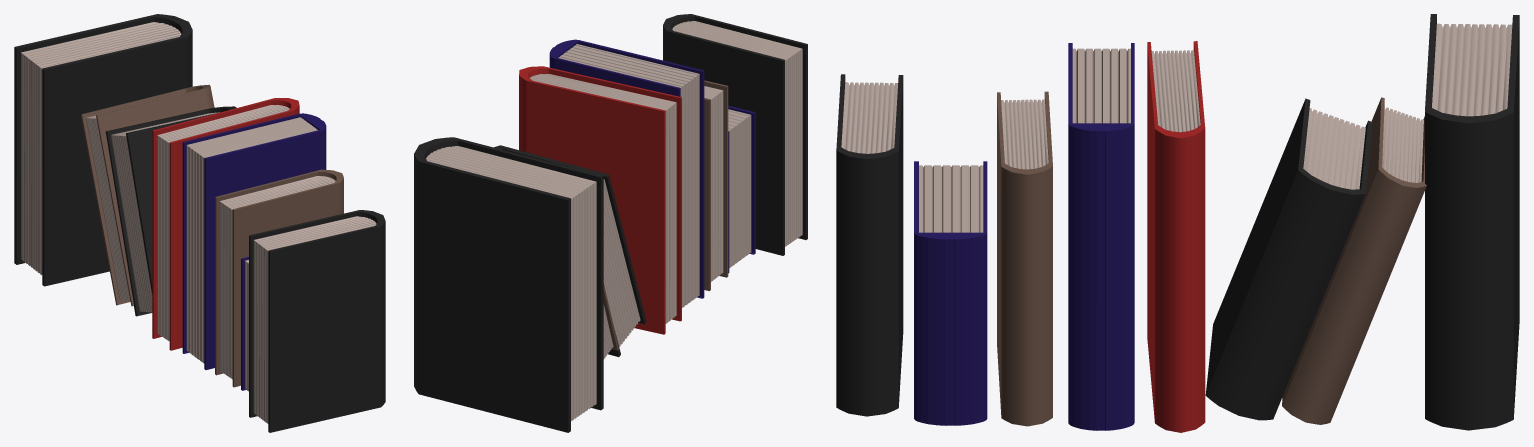
Rendered from Books(Del).fbx.
The picture shows the model from 3 angles, left to right: view 1: azimuth 30°, elevation 25°; view 2: azimuth 150°, elevation 25°; view 3: azimuth 270°, elevation 25°; orthographic projection. The views are drawn at different scales.
Visible parts, largest first — view 1: Book, Book4, Book6, Book2, Book3, Book1, Book5, Book7; view 2: Book4, Book3, Book, Book6, Book2, Book1, Book7, Book5; view 3: Book4, Book1, Book6, Book, Book3, Book7, Book2, Book5.
Part boxes in pixels (x1,y1,x2,y2): Book: (249, 210, 385, 432); Book4: (14, 14, 192, 286); Book6: (182, 113, 326, 369); Book2: (215, 169, 343, 387); Book3: (152, 98, 299, 350); Book1: (105, 106, 236, 316); Book5: (81, 84, 214, 306); Book7: (241, 256, 248, 391); Book4: (414, 137, 603, 432); Book3: (519, 66, 681, 334); Book: (663, 14, 807, 255); Book6: (549, 39, 704, 307); Book2: (704, 80, 728, 290); Book1: (494, 145, 646, 356); Book7: (728, 105, 755, 273); Book5: (603, 283, 618, 359); Book4: (1425, 14, 1519, 430); Book1: (1205, 98, 1372, 420); Book6: (1068, 43, 1134, 430); Book: (836, 74, 903, 416); Book3: (1147, 41, 1205, 432); Book7: (914, 161, 987, 425); Book2: (997, 91, 1052, 426); Book5: (1282, 97, 1426, 424).
Size of the model in its own units: 0.7452 by 0.9389 by 1.87.
